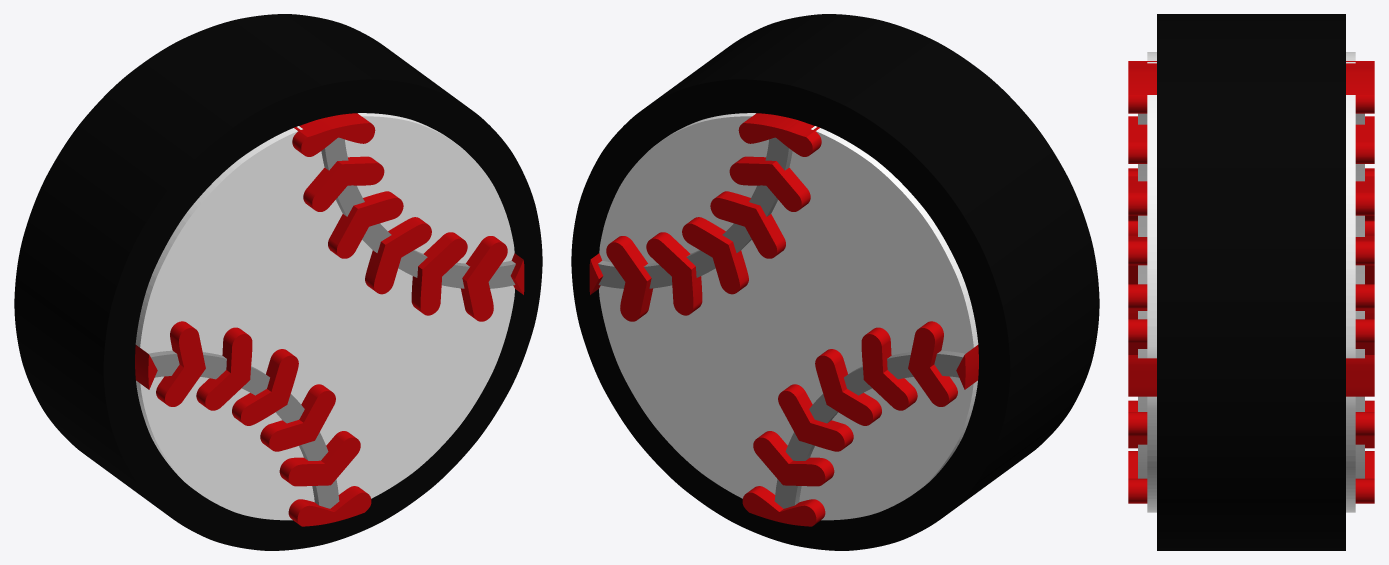
3 renders of one model, left to right at view 1: azimuth 30°, elevation 25°; view 2: azimuth 150°, elevation 25°; view 3: azimuth 270°, elevation 25°, orthographic. The views are drawn at different scales.
Visible parts, largest first — view 1: U+26BE_layer00_obj00, U+26BE_layer01_obj00, U+26BE_layer03_obj00, U+26BE_layer02_obj00; view 2: U+26BE_layer00_obj00, U+26BE_layer01_obj00, U+26BE_layer03_obj00, U+26BE_layer02_obj00; view 3: U+26BE_layer00_obj00, U+26BE_layer03_obj00, U+26BE_layer01_obj00, U+26BE_layer02_obj00.
Boxes of the visible parts, x1,y1,x2,y2 form: U+26BE_layer00_obj00: [14, 14, 542, 550]; U+26BE_layer01_obj00: [135, 113, 514, 520]; U+26BE_layer03_obj00: [135, 113, 524, 526]; U+26BE_layer02_obj00: [148, 137, 515, 508]; U+26BE_layer00_obj00: [571, 14, 1099, 550]; U+26BE_layer01_obj00: [599, 113, 978, 520]; U+26BE_layer03_obj00: [589, 113, 978, 526]; U+26BE_layer02_obj00: [598, 137, 965, 508]; U+26BE_layer00_obj00: [1157, 14, 1345, 550]; U+26BE_layer03_obj00: [1128, 61, 1374, 503]; U+26BE_layer01_obj00: [1147, 52, 1355, 512]; U+26BE_layer02_obj00: [1138, 113, 1364, 478].
Size of the model in its own units: 0.5681 by 0.568 by 0.26.
